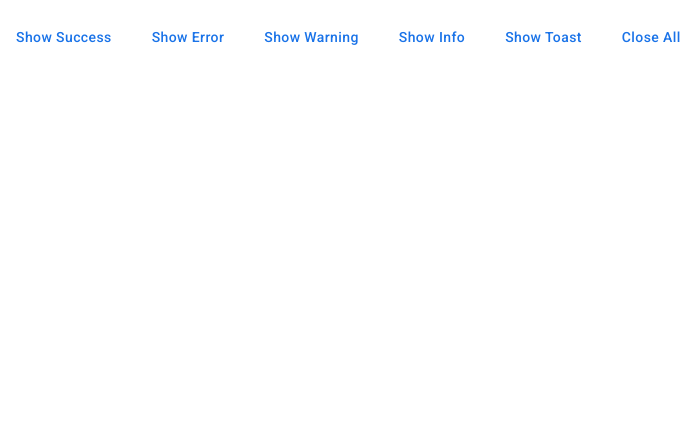
Scenario: ToastProvider and useToast › showInfo displays info toast
The width and height of the screenshot is (697, 435).
Click the button "Show Info" at coordinates (432, 37), box [379,17,485,57]
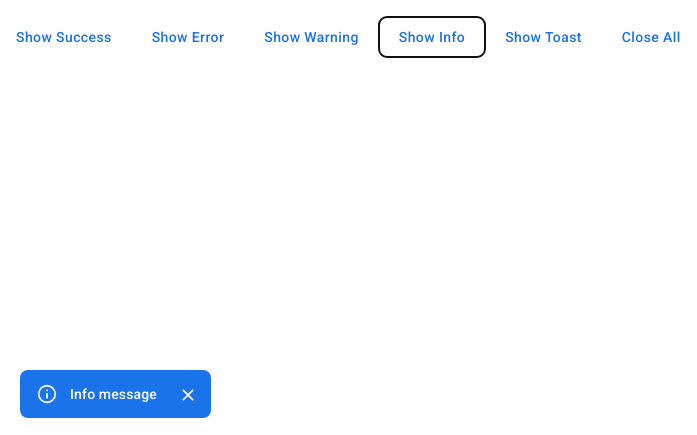
expect the text "Info message" is shown: met, box [70,386,157,402]
